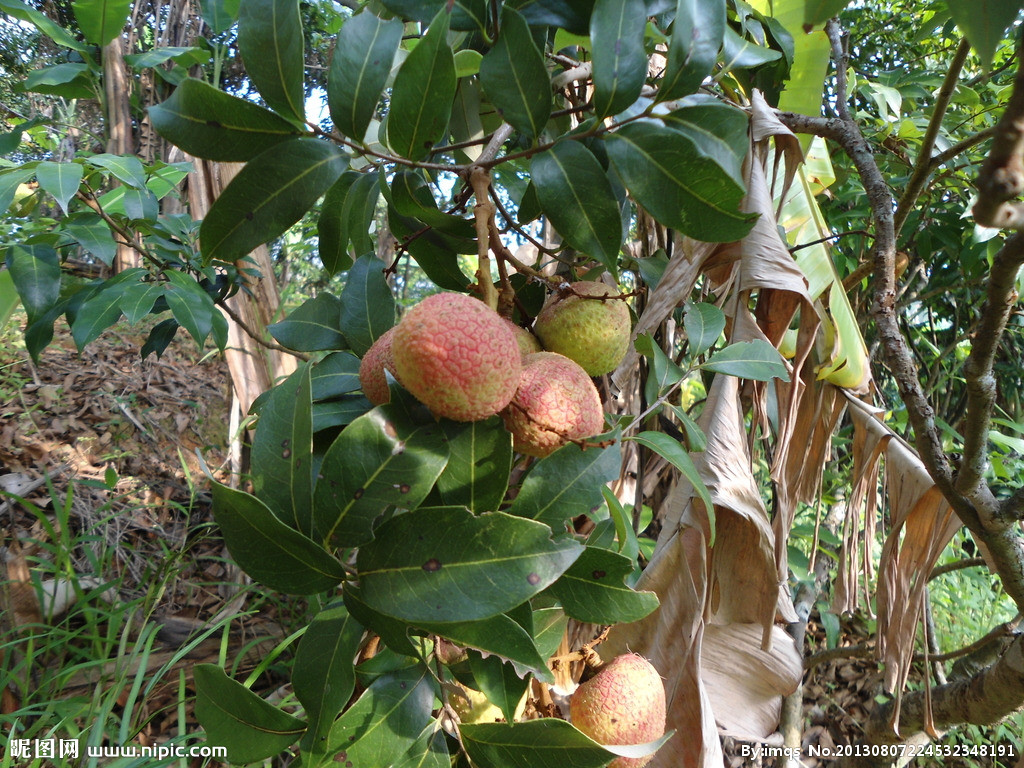litchi: (366, 286, 630, 451)
stem: (459, 63, 593, 245)
